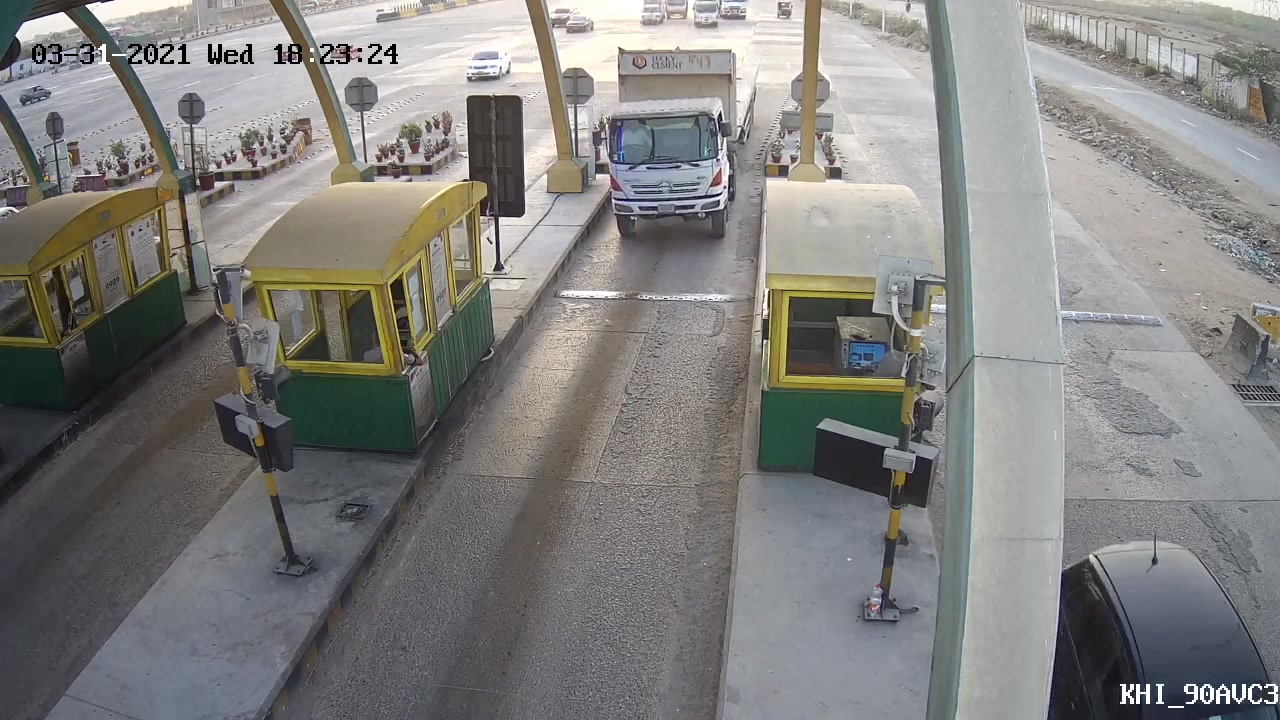F6: (592, 24, 764, 245)
